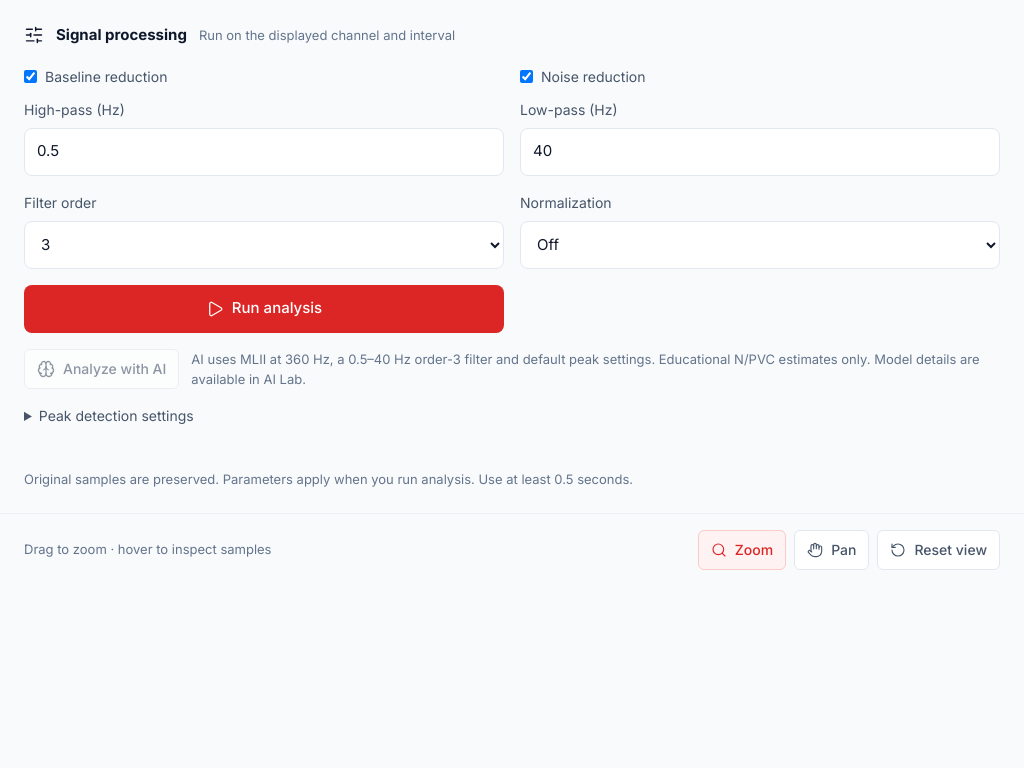
normalization is submitted explicitly and explains its separate units
This screenshot has width=1024, height=768.
Select "Z-score" in the dropdown labelled "Normalization": [760, 244] box [520,220,1000,268]
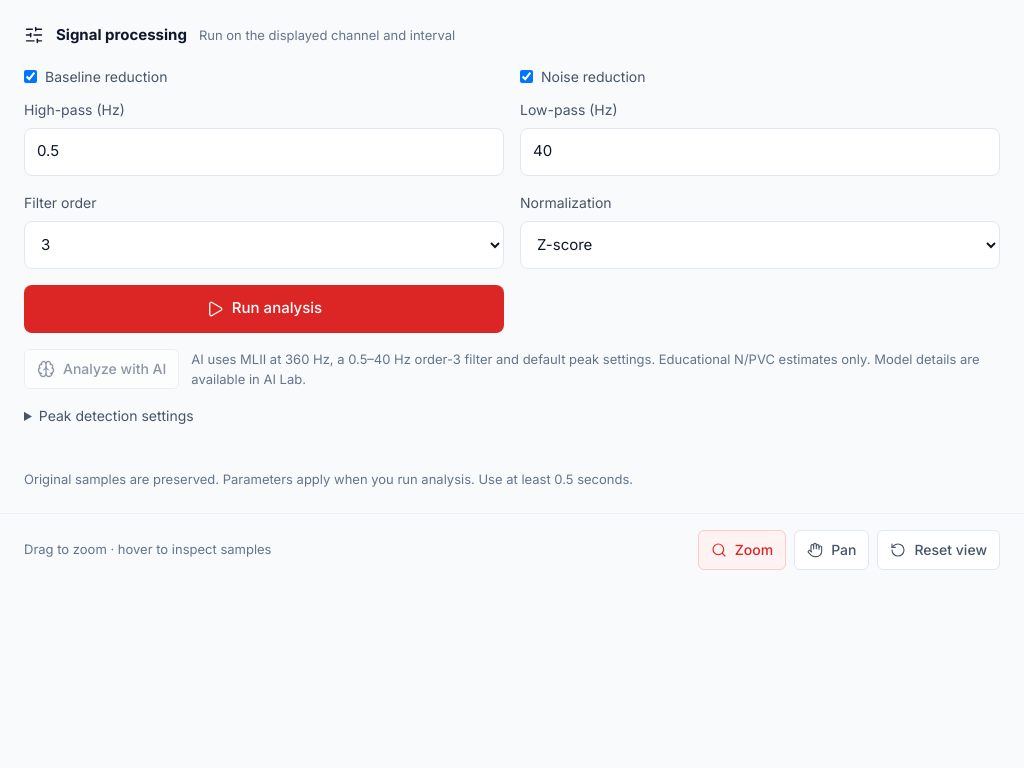
Click the button "Run analysis": [264, 308] box [24,284,504,332]
(page scrolled)
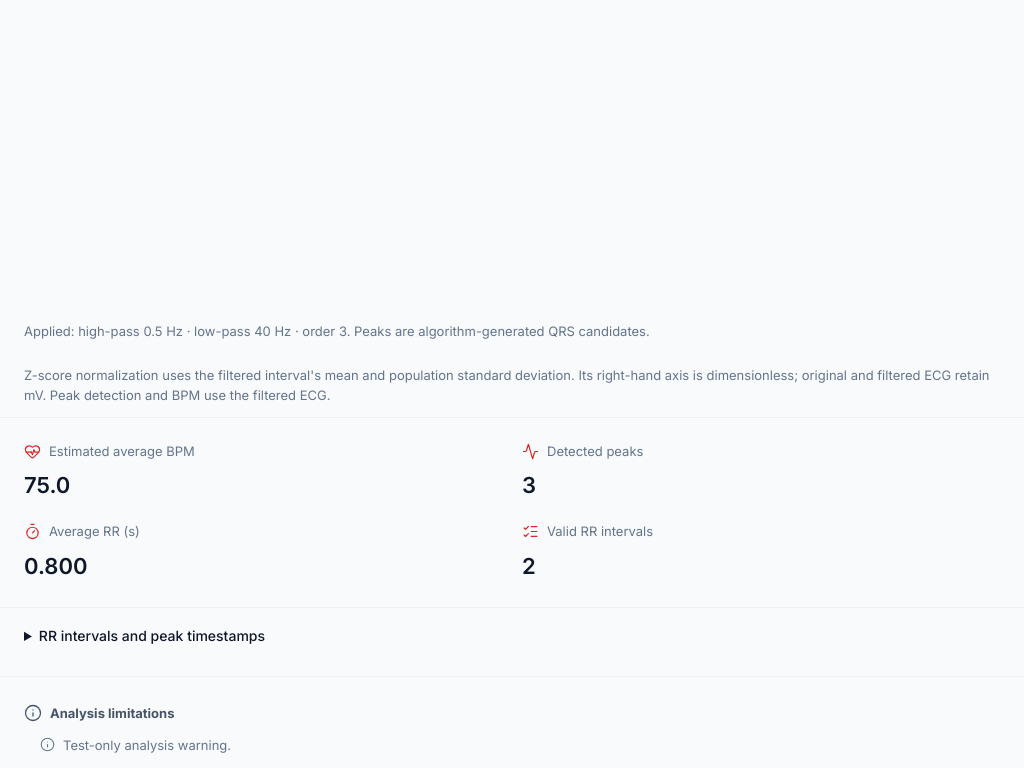
Expected: the text "right-hand axis is dimensionless" is shown, [24,366,990,382]
